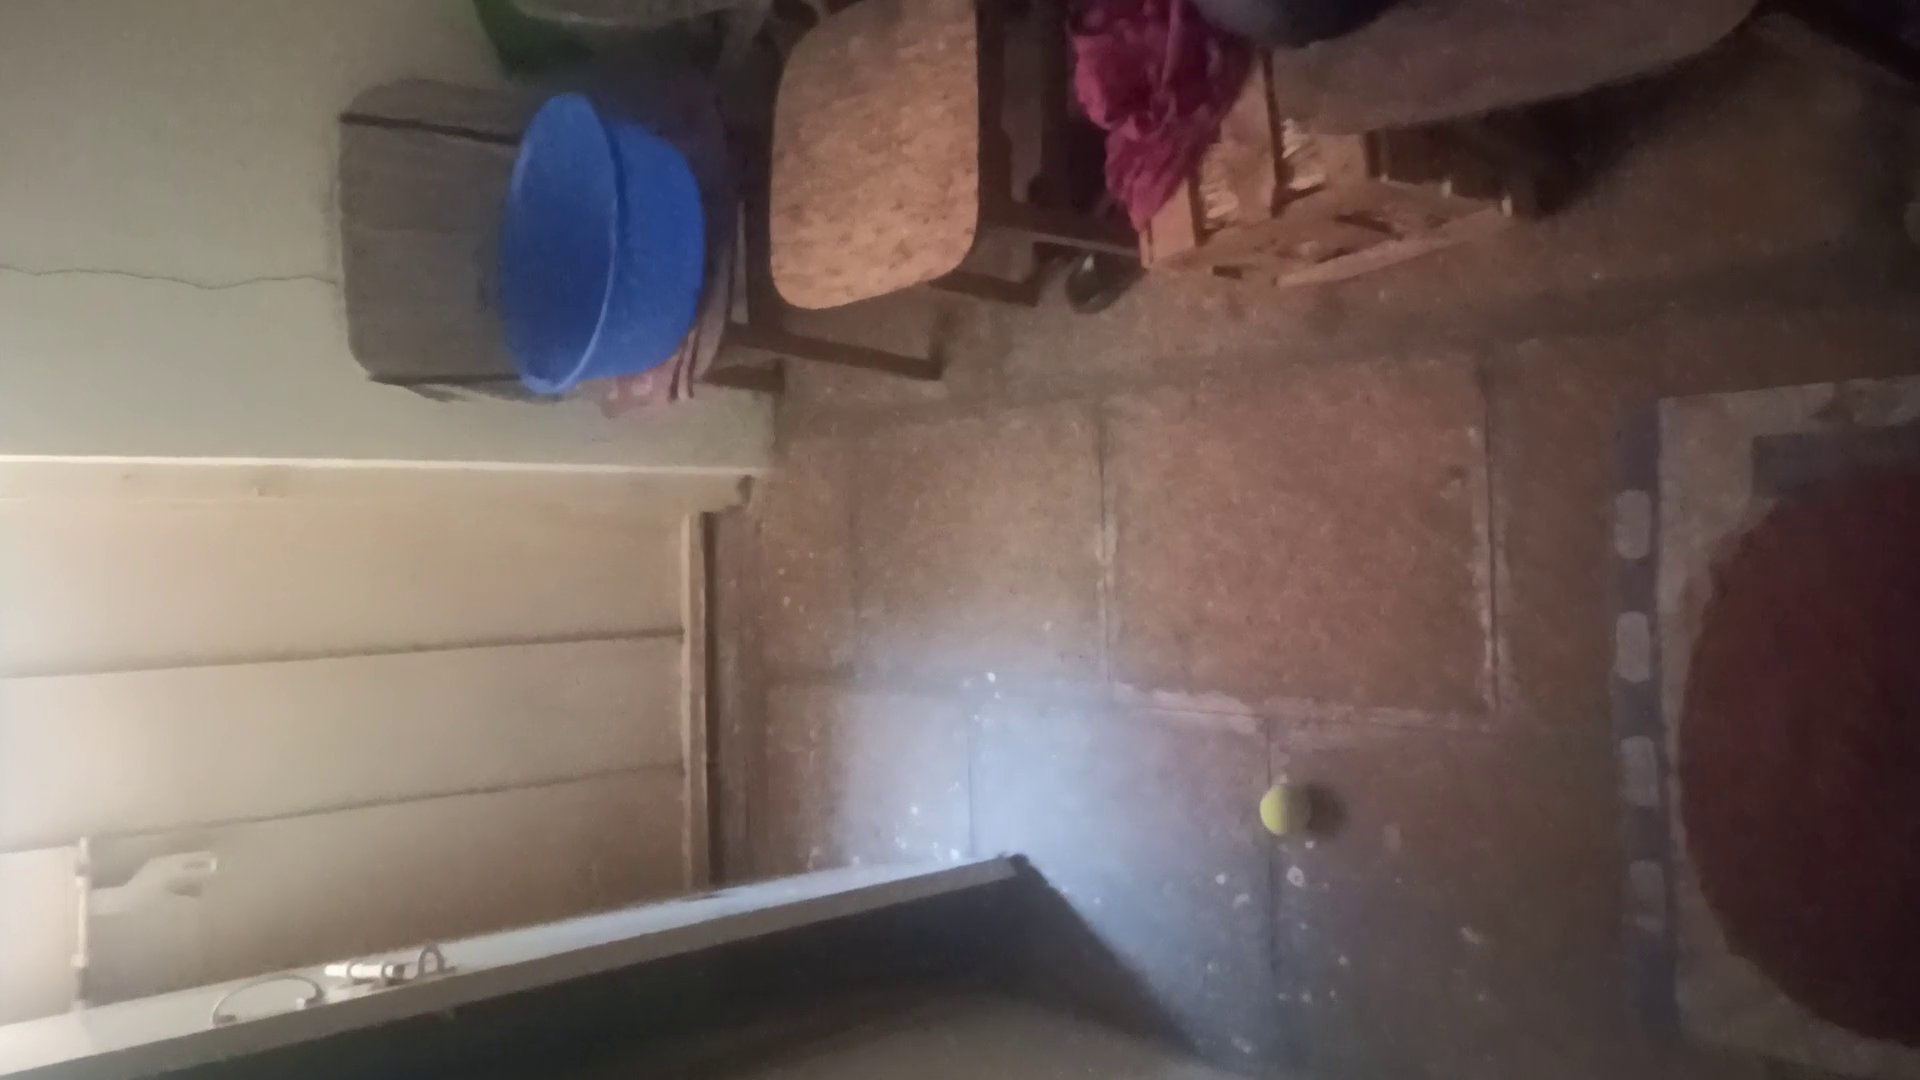Tennis-Ball: (1261, 783, 1312, 835)
